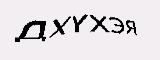Д: (13, 19, 49, 42)
Х: (50, 16, 72, 39), (88, 13, 109, 33)
Э: (107, 15, 126, 37)
Я: (124, 18, 140, 37)
Ү: (70, 11, 87, 33)
